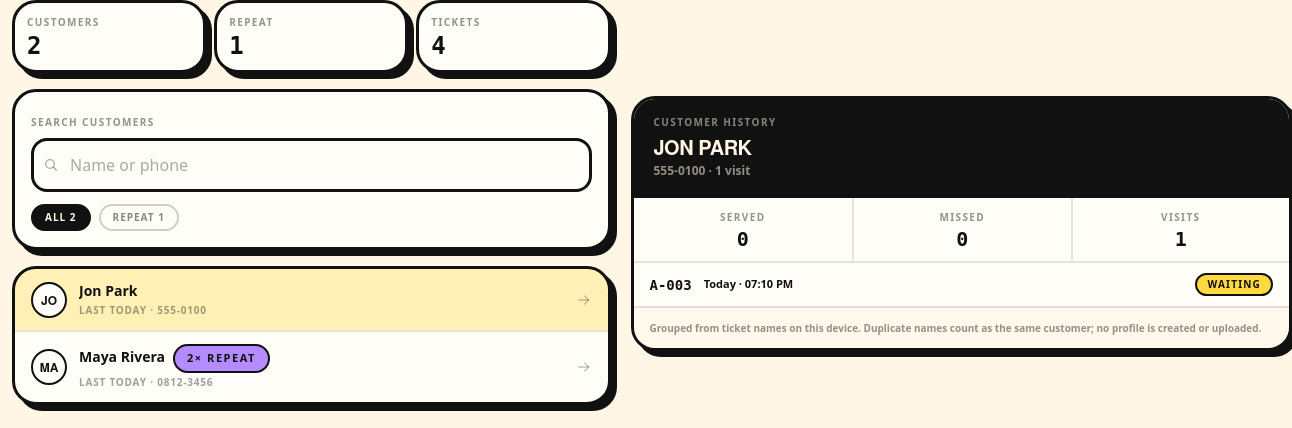
Test: customer directory › opens a customer’s ticket history
This screenshot has width=1292, height=428.
Click the button "Ma Maya Rivera 2× repeat Last Today · 0812-3456".
click(49, 367)  # box [15,332,608,402]
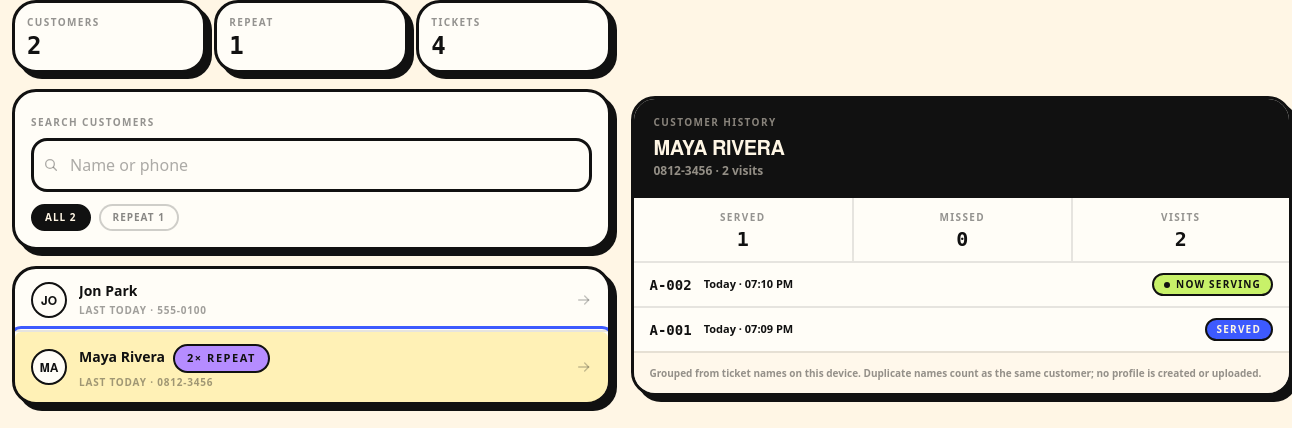
Result: the heading "Maya Rivera" is shown at [654,132,784,161]
Result: the text "A-001" is shown at [650,320,692,340]
Result: the text "A-002" is shown at [650,274,692,294]
